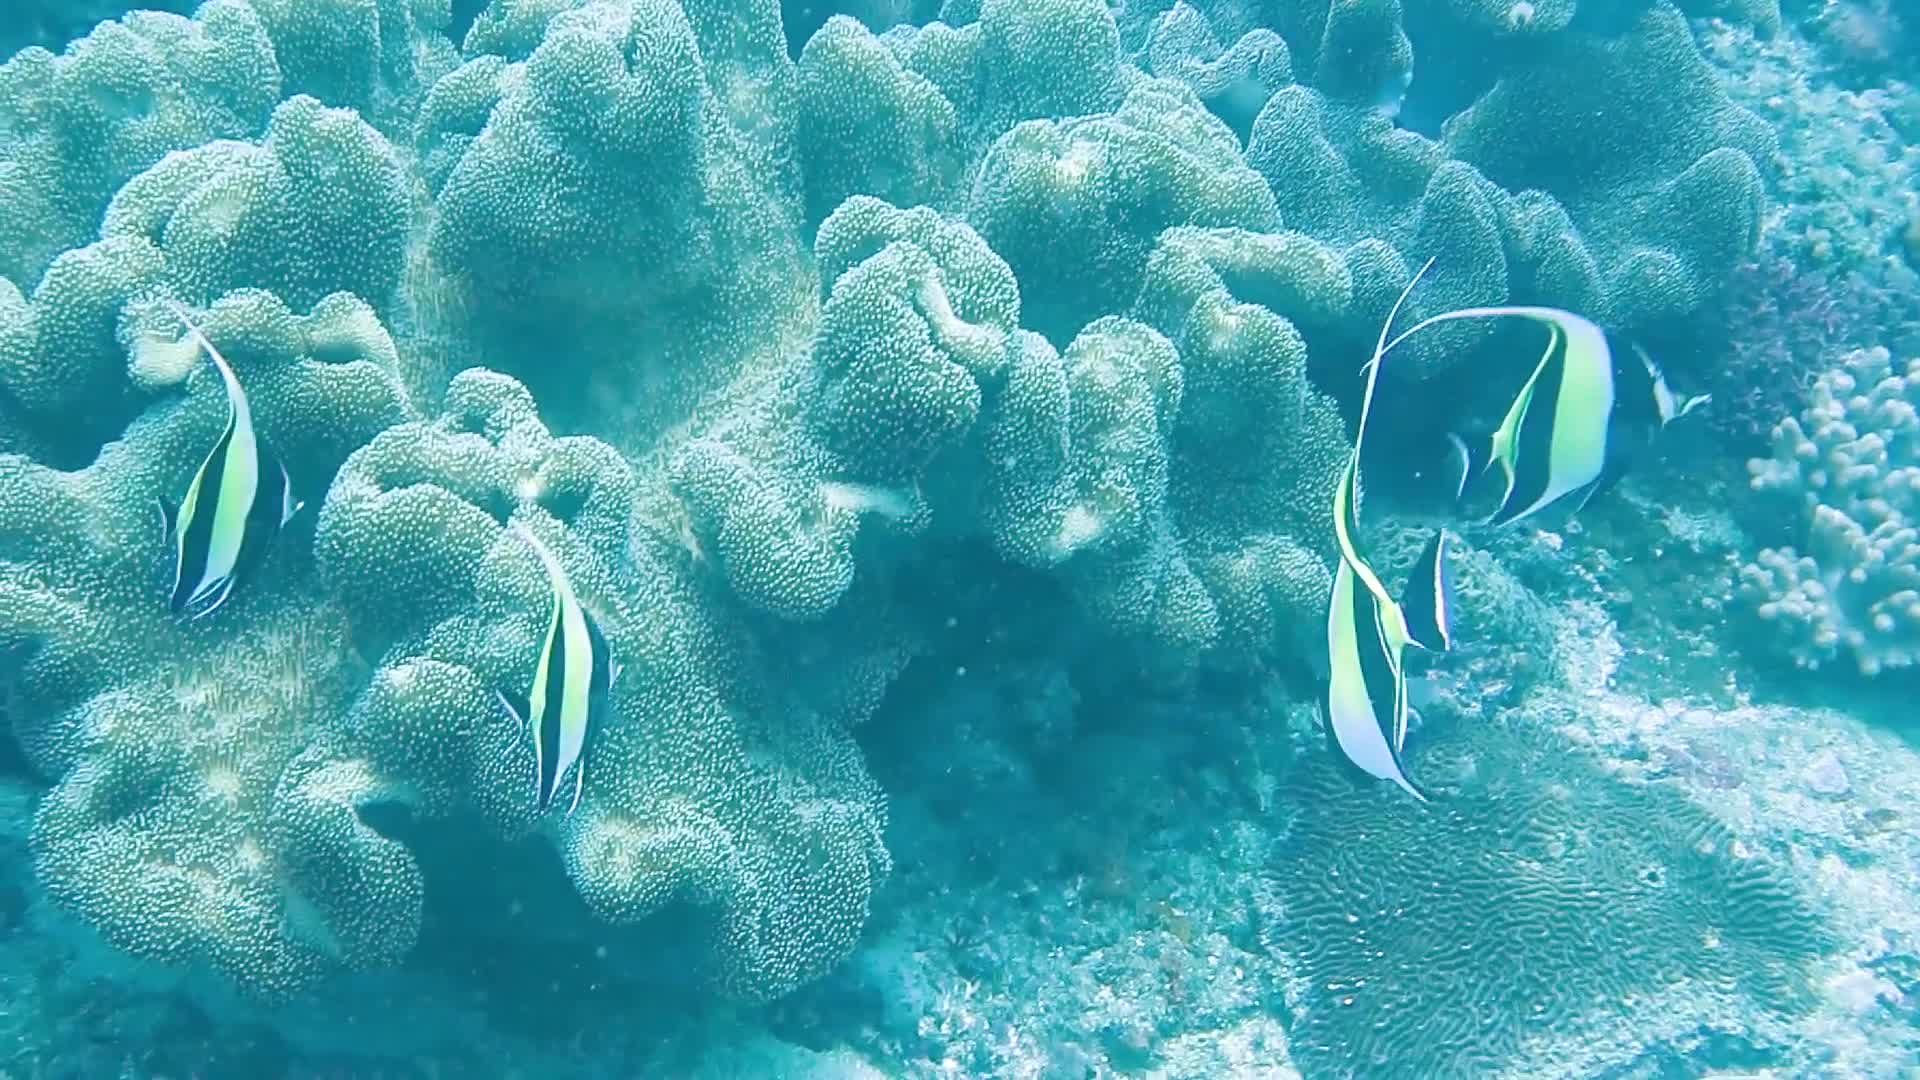Zanclus cornutus: (92, 360, 323, 597), (1298, 495, 1458, 798), (1484, 310, 1720, 513), (505, 564, 661, 806)
